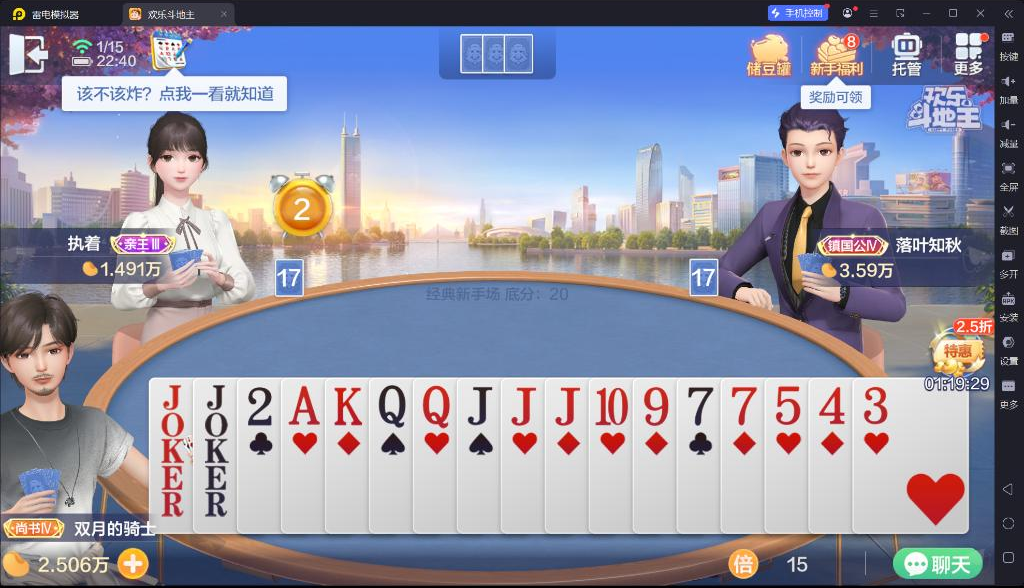A: (285, 383, 321, 428)
J: (550, 384, 584, 427), (506, 384, 538, 428), (464, 383, 494, 428)
JOKER: (157, 381, 189, 467)
K: (330, 383, 364, 427)
Q: (418, 382, 454, 429), (376, 382, 408, 429)
five: (771, 383, 804, 427)
four: (816, 384, 848, 426)
joker: (202, 382, 232, 468)
nine: (641, 385, 671, 427)
seven: (683, 383, 717, 428), (727, 382, 759, 428)
ten: (593, 383, 630, 428)
three: (860, 383, 890, 427)
two: (244, 383, 275, 429)
